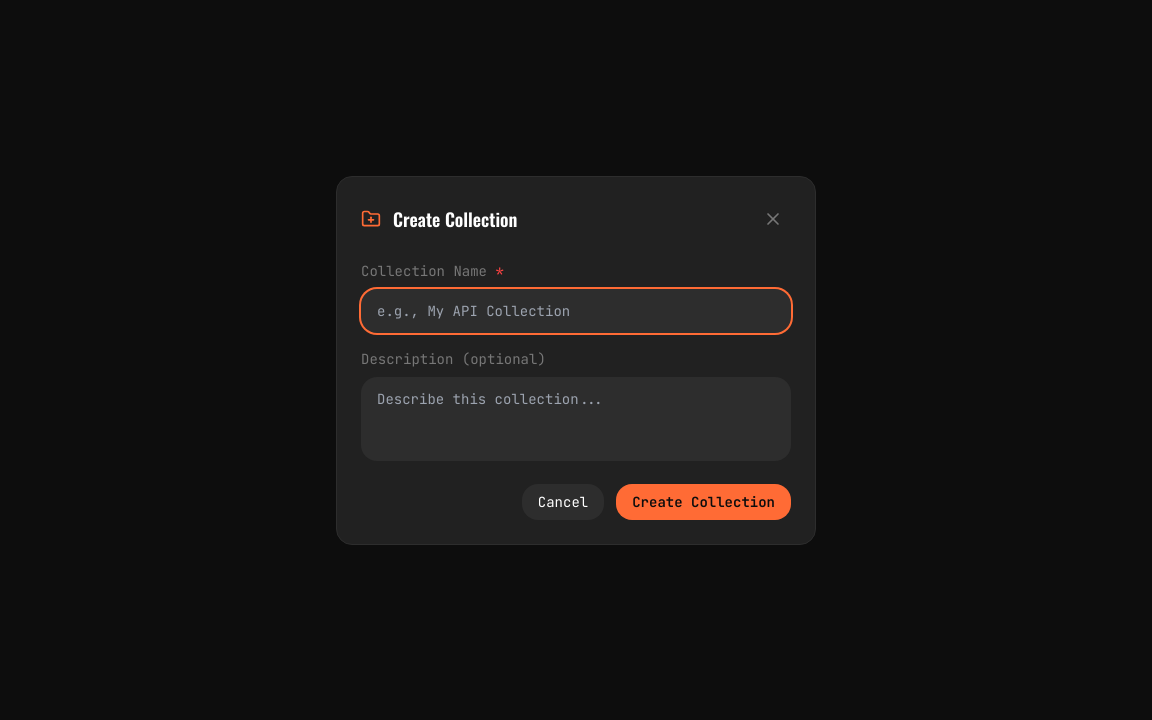
Scenario: CreateCollectionModal › handles unknown error types
The image size is (1152, 720).
Step 1. Type "Test" into the field with placeholder "e.g., My API Collection" → x=576, y=310, box [361, 288, 791, 332]
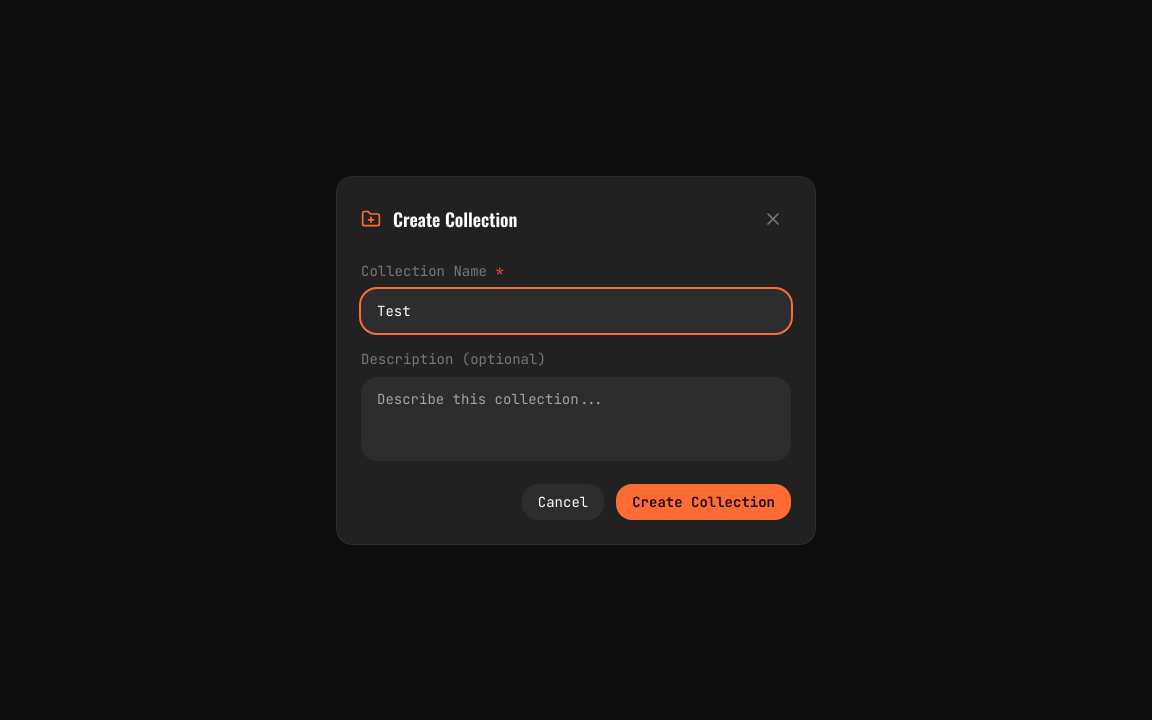
Step 2. Click the button "Create Collection" → x=704, y=502, box [616, 484, 791, 520]
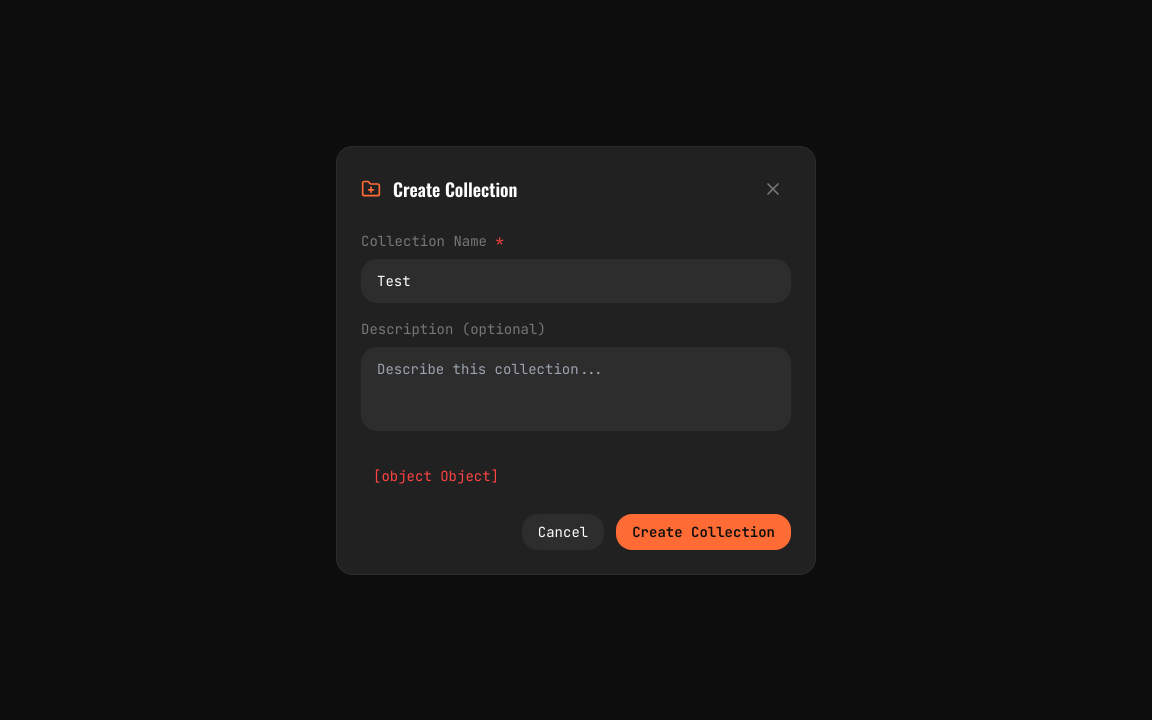
expect the text "[object Object]" is shown: met, box [373, 466, 499, 484]
